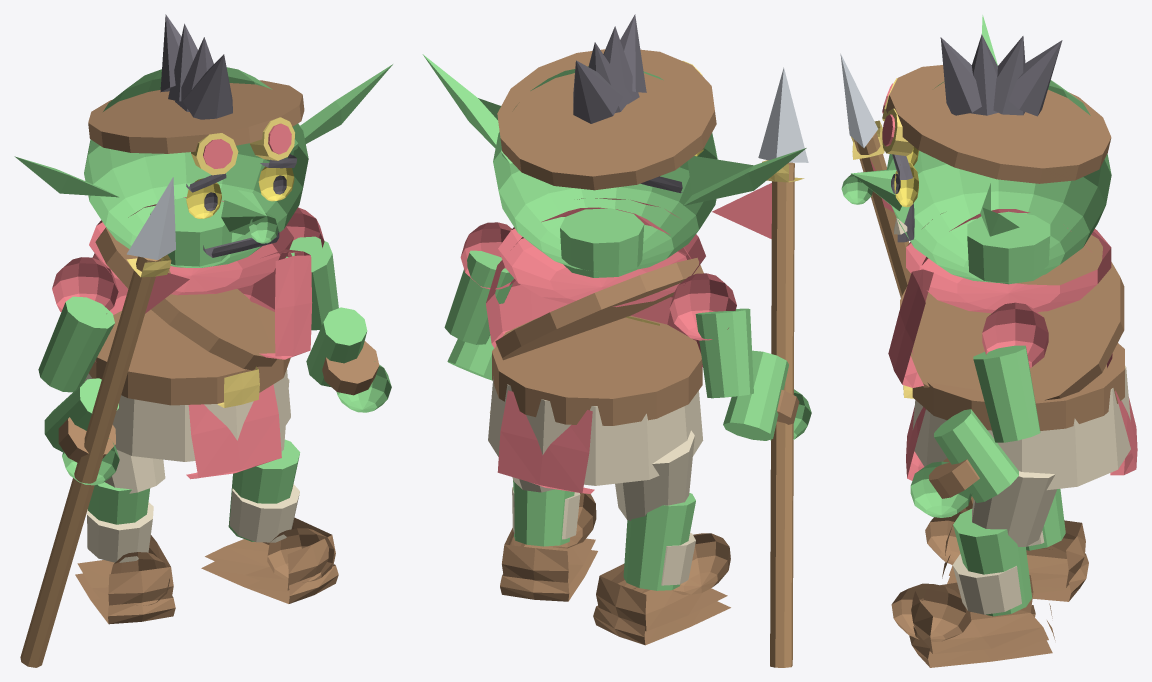
File: duende_2.glb
3 views of the same model, side by side, from view 1: azimuth 30°, elevation 25°; view 2: azimuth 150°, elevation 25°; view 3: azimuth 270°, elevation 25° (orthographic). The views are drawn at different scales.
Visible parts, largest first — view 1: Duende_2; view 2: Duende_2; view 3: Duende_2.
Boxes of the visible parts, box(x1,y1,x2,y2) form: Duende_2: box(14, 14, 392, 667); Duende_2: box(422, 14, 811, 667); Duende_2: box(840, 15, 1137, 667).
Bounding box in the file's own units: 0.682 × 1.01 × 0.4425.
